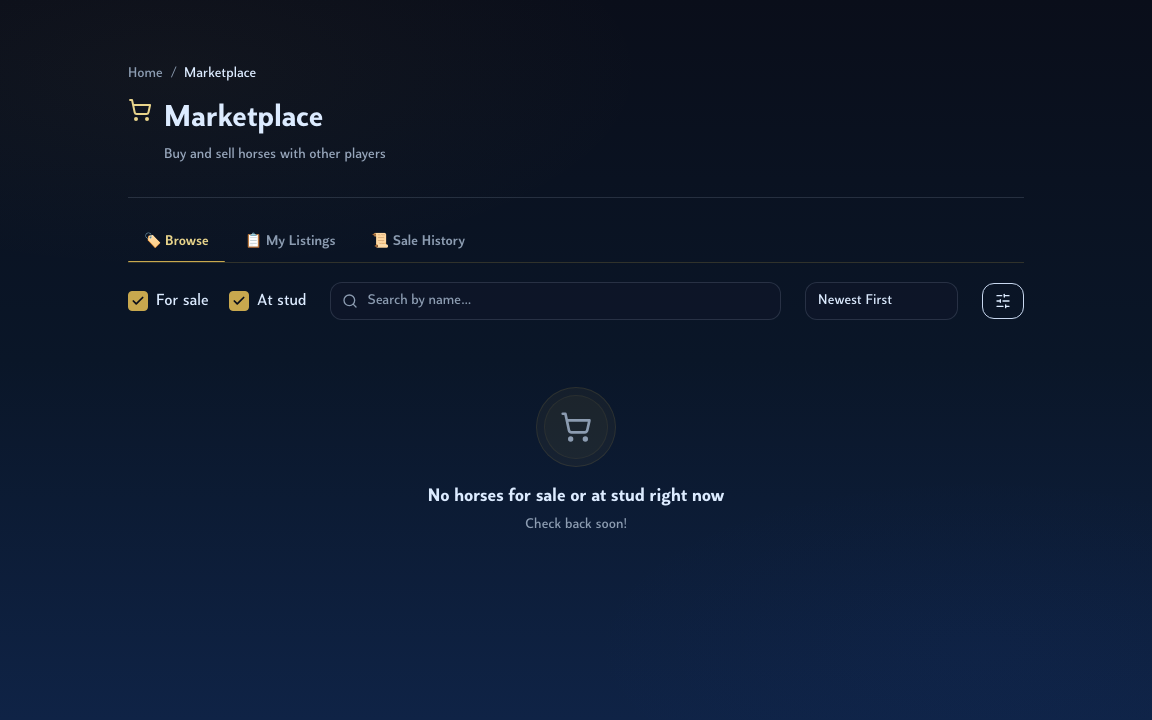
HorseMarketplacePage — My Listings + History tabs four-state (Equoria-l22ki) › Sale History: renders error+retry (not a false empty) on a failed fetch
Click the tab with test id "tab-history" at (418, 242), box [356, 222, 481, 262]
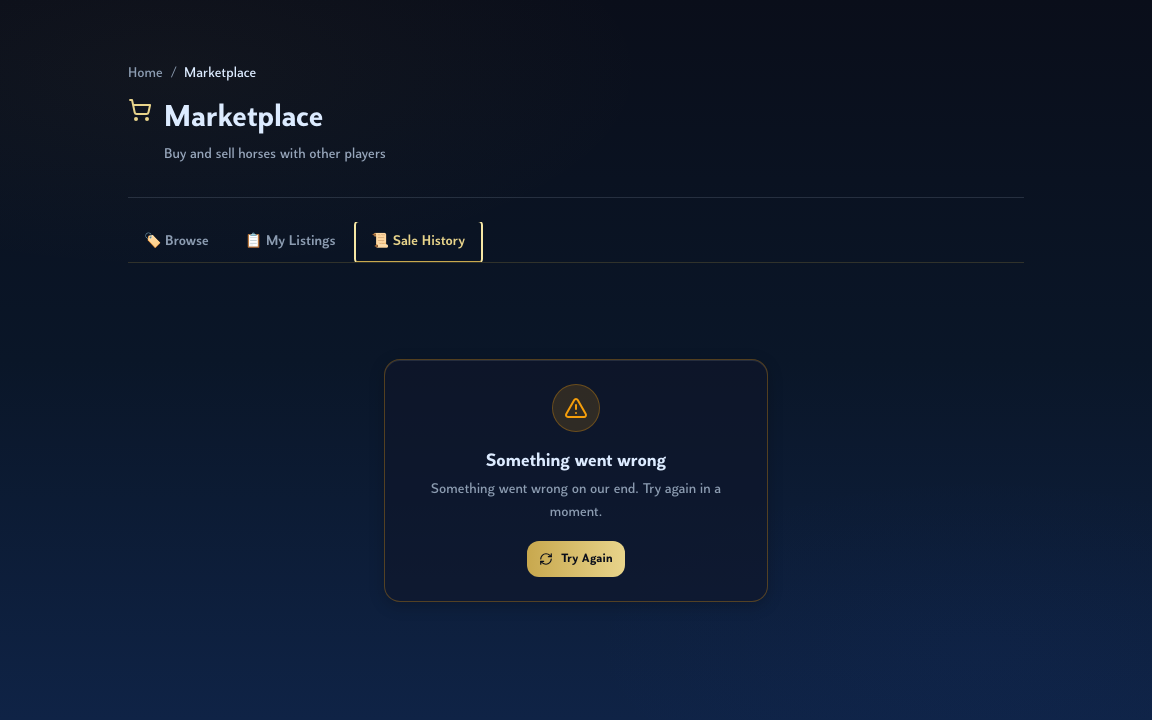
Now the button "Try Again" is shown, box [527, 540, 625, 576]
